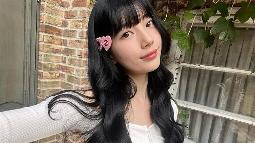face: (115, 10, 162, 72)
